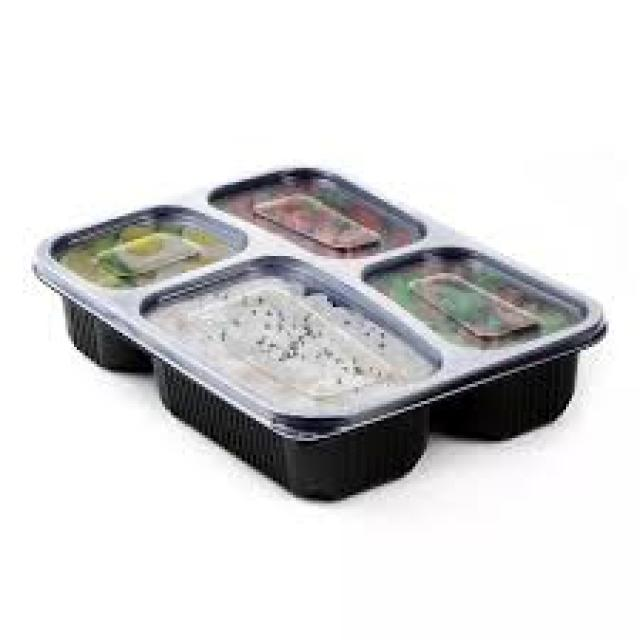disposable: (38, 129, 618, 514)
